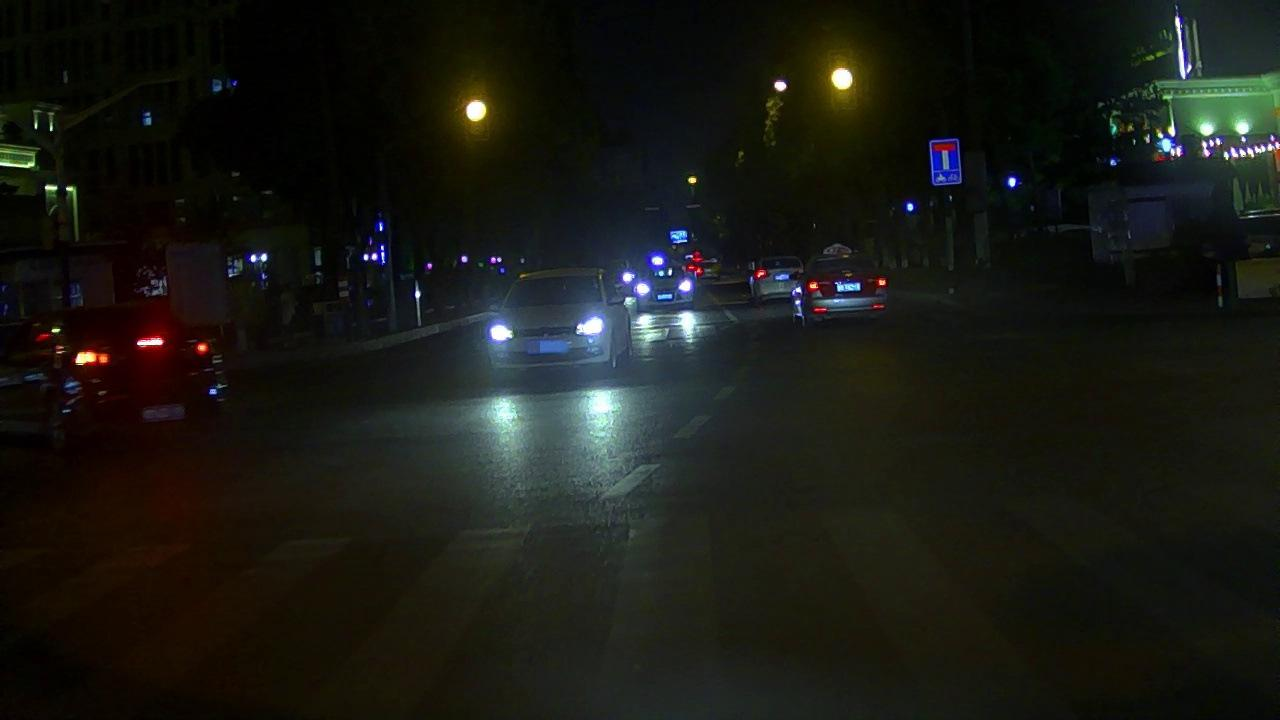traffic_light: (824, 57, 859, 98), (463, 92, 491, 127)
